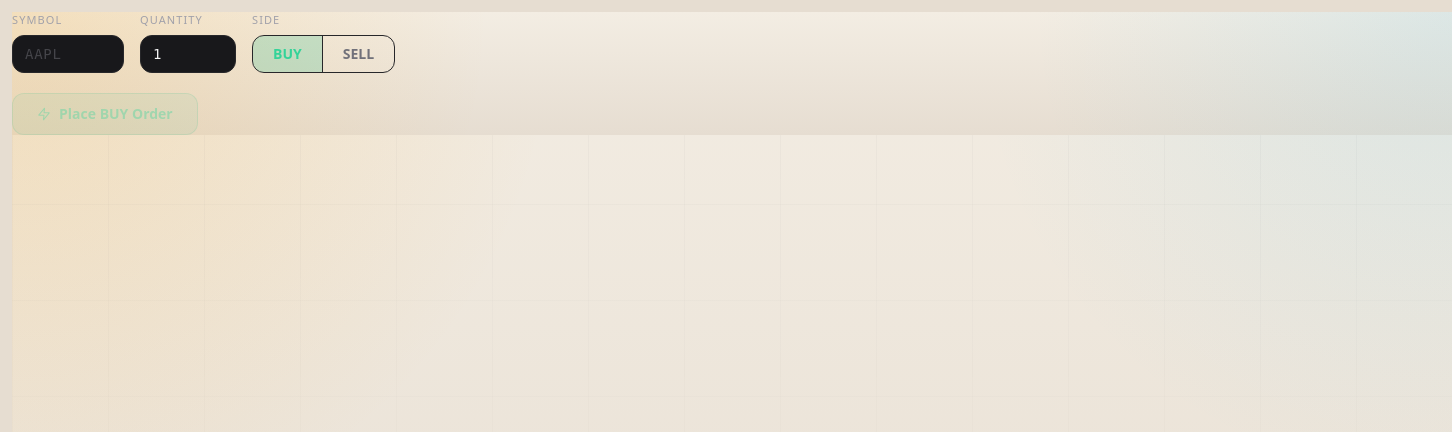
Test: QuickOrderForm › blocks invalid symbols before opening confirmation
Type "AA PL" into the field labelled "Symbol" at x=68, y=54, box [12,34,124,72]
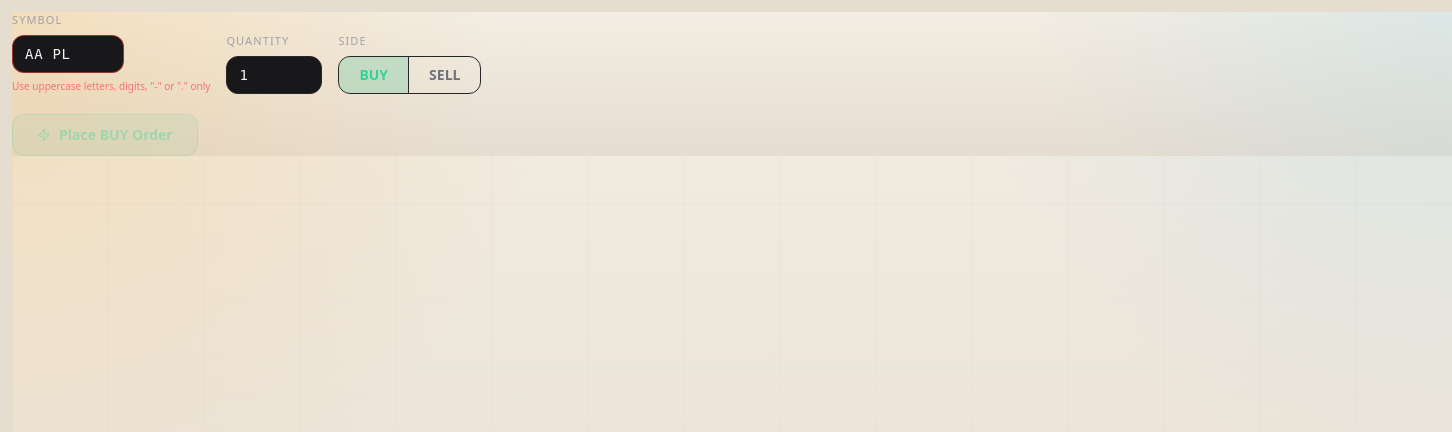
Expected: the button "Place BUY Order" is disabled, [12,114,198,156]
Expected: the message reads "Use uppercase letters, digits, \"-\" or \".\" only", [12,78,210,92]
